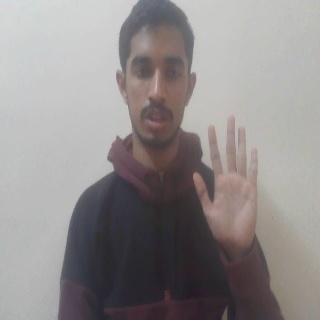Face: (114, 2, 198, 154)
Hello: (191, 113, 259, 254)
